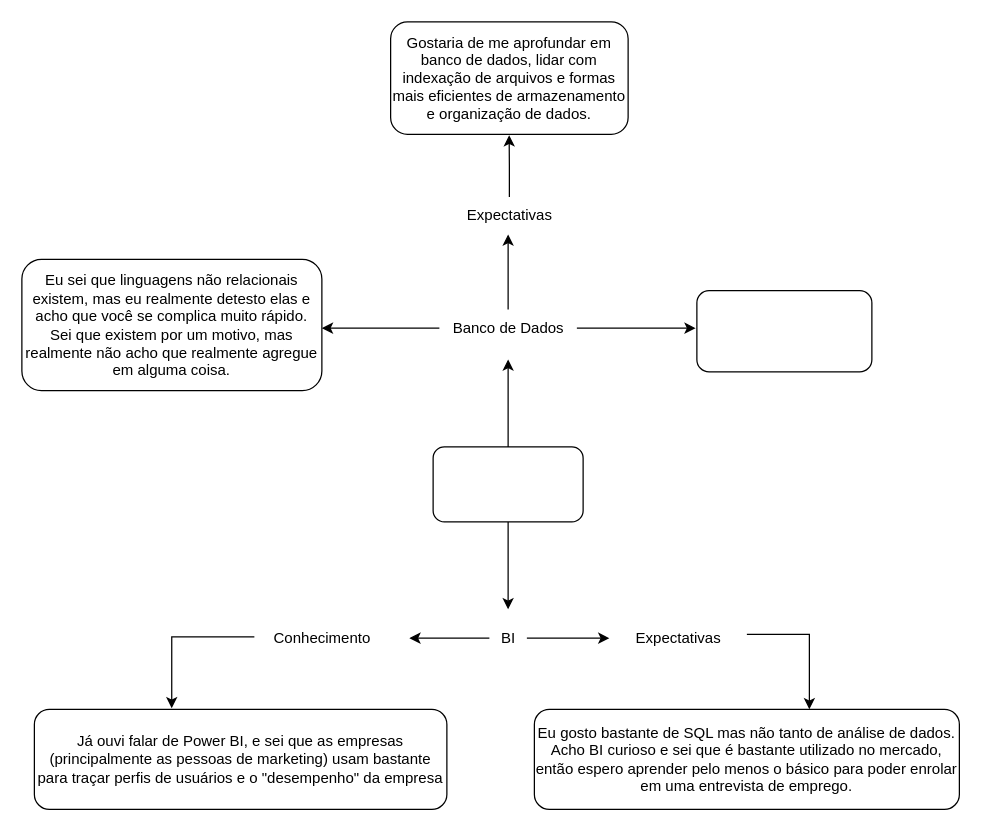
This 981x831 diagram has some shape labels left out. Each missing label, with the box of its shape:
Adoro linguagens SQL, principalmente MySql e PostgreSQL. Já usei bastante.: (696, 289, 872, 372)
Conhecimentos gerais em BD (e BI): (432, 446, 583, 522)
